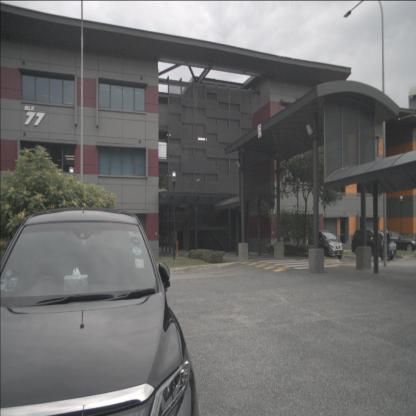cone: (176, 241, 179, 257)
